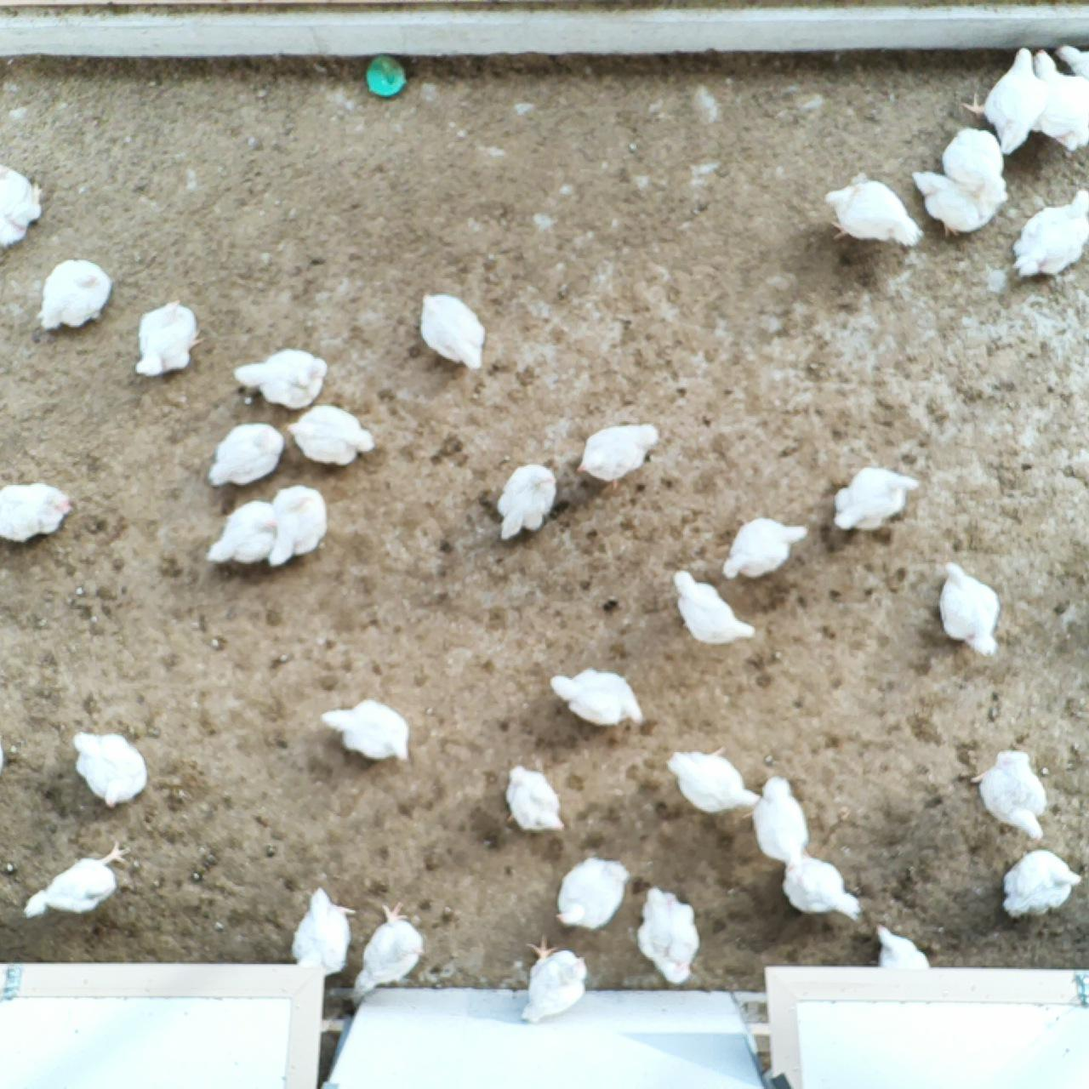chicken: (959, 46, 1049, 156), (19, 838, 134, 924), (965, 744, 1053, 844), (823, 170, 925, 255), (1008, 186, 1089, 280), (352, 900, 431, 996), (663, 744, 763, 818), (634, 882, 704, 986), (317, 693, 415, 767), (518, 929, 591, 1024), (830, 463, 926, 535), (70, 726, 151, 811), (548, 664, 649, 732), (779, 850, 868, 927), (669, 566, 758, 643), (287, 884, 359, 979), (230, 345, 332, 411), (936, 558, 1003, 658), (574, 419, 663, 494), (34, 256, 115, 335), (909, 167, 999, 238), (131, 295, 206, 380), (746, 774, 813, 869), (719, 514, 812, 581), (1000, 846, 1084, 920), (288, 403, 379, 471), (495, 457, 564, 546), (199, 421, 288, 490), (939, 124, 1013, 206), (1031, 49, 1089, 153), (555, 855, 633, 932), (416, 287, 486, 372), (202, 497, 279, 569), (267, 482, 330, 569), (500, 761, 569, 838), (0, 480, 74, 546), (0, 161, 46, 253), (870, 920, 934, 972), (1052, 40, 1089, 79)
